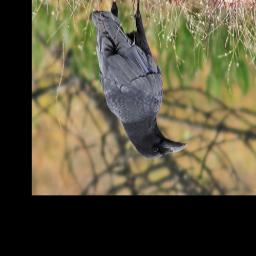Crow: (89, 0, 186, 159)
